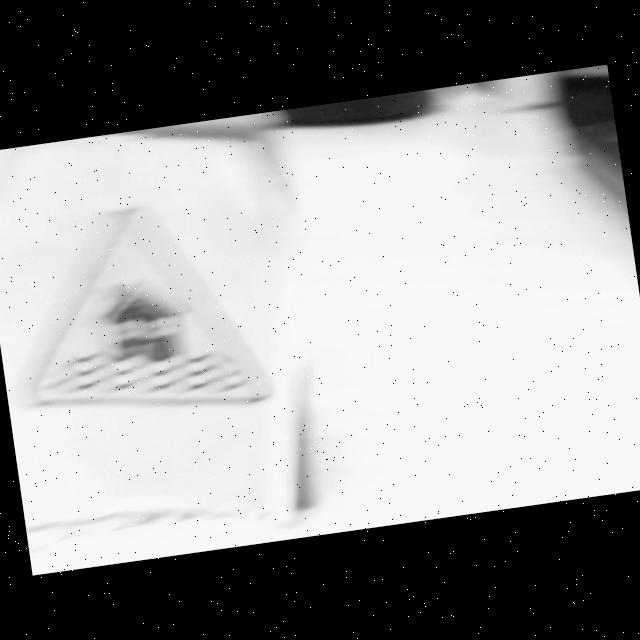Tsunami: (26, 206, 269, 406)
